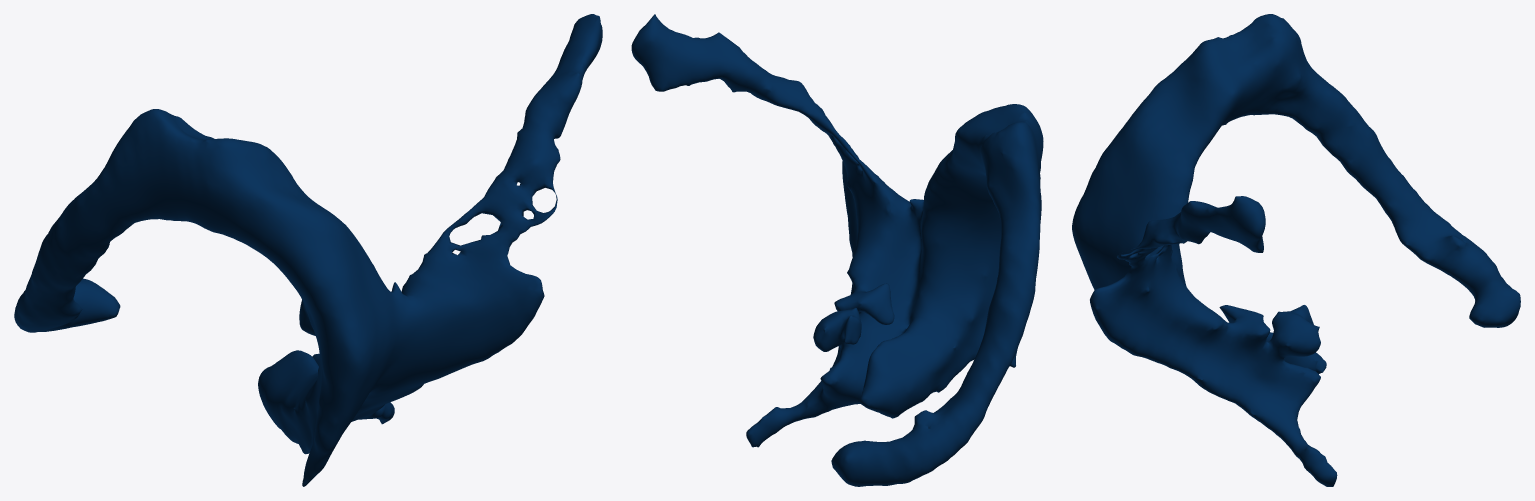
The model's file is Ventricle.obj.
3 renders of one model, left to right at view 1: azimuth 30°, elevation 25°; view 2: azimuth 150°, elevation 25°; view 3: azimuth 270°, elevation 25°, orthographic. The views are drawn at different scales.
Visible parts, largest first — view 1: grp1; view 2: grp1; view 3: grp1.
Part boxes in pixels (x1,y1,x2,y2): grp1: [14, 14, 602, 486]; grp1: [631, 14, 1043, 486]; grp1: [1072, 14, 1520, 486].
Bounding box in the file's own units: 76.08 × 59.08 × 66.17.
